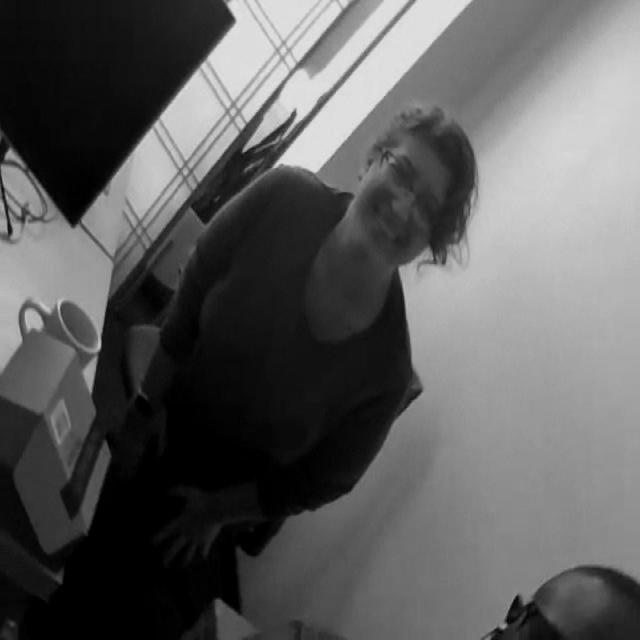real: (350, 122, 470, 266)
